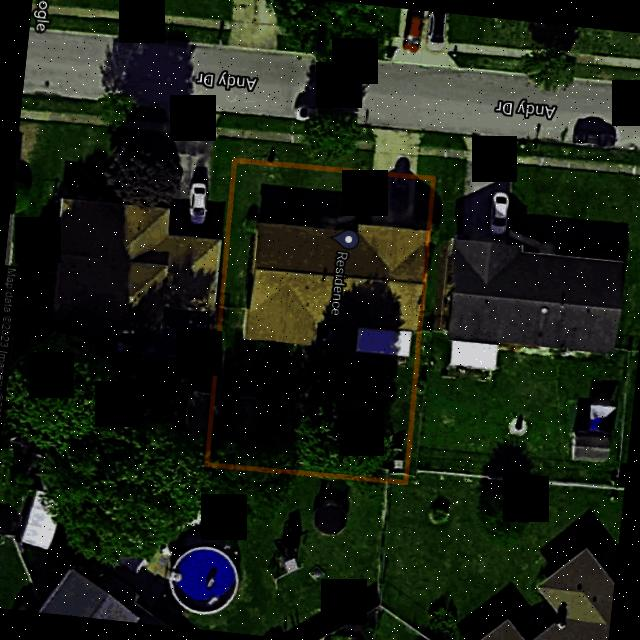Driveway: (322, 174, 416, 228)
Extra Driveway: (373, 151, 418, 172), (374, 126, 419, 144)
Extra Lawn: (233, 137, 373, 166), (237, 114, 375, 142), (417, 155, 438, 175), (420, 130, 439, 147)
Extra Sidewalk: (234, 127, 374, 149), (375, 142, 420, 156), (419, 145, 440, 155)
House: (243, 221, 425, 344)
Other: (355, 325, 412, 356), (232, 395, 262, 430)
